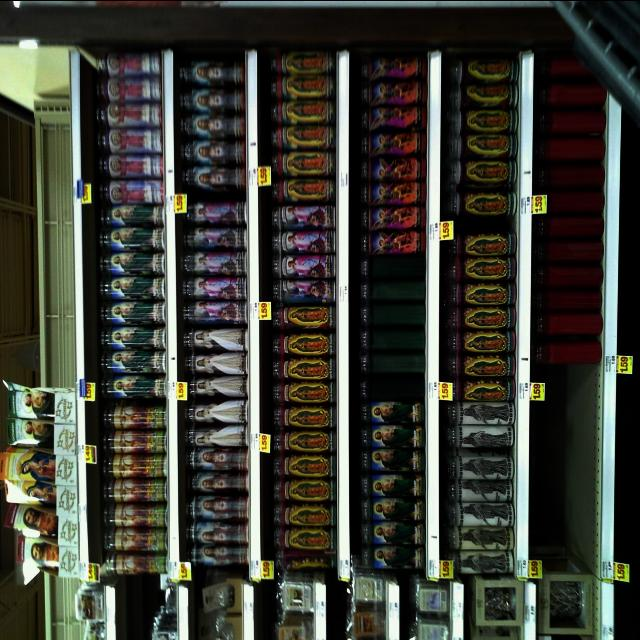empty_space: (38, 94, 74, 382), (549, 369, 595, 552)
